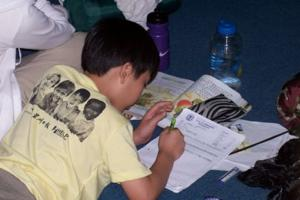person: (1, 19, 187, 199)
